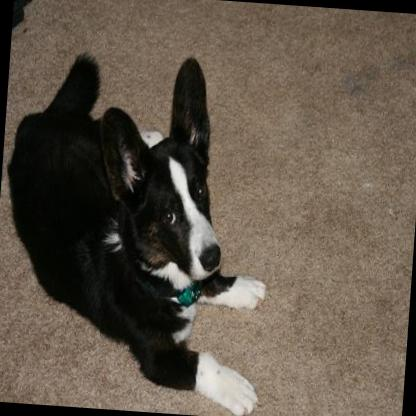Cardigan: (0, 40, 284, 416)
